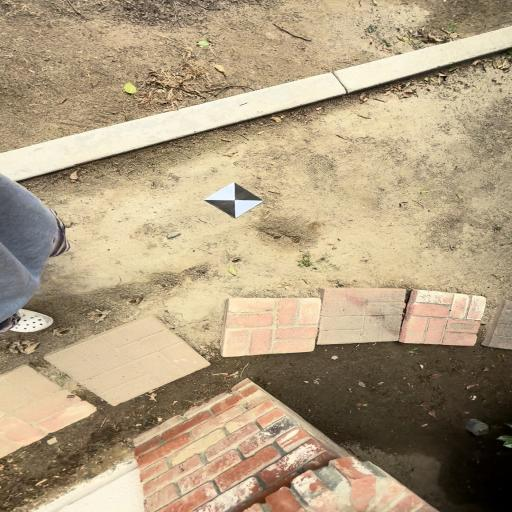target: (204, 182, 264, 218)
